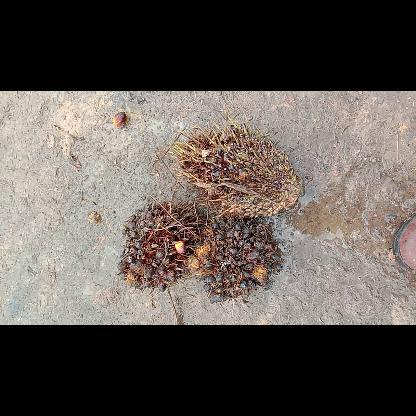TBS abnormal: (169, 116, 301, 216), (118, 200, 204, 290), (186, 219, 282, 295)
